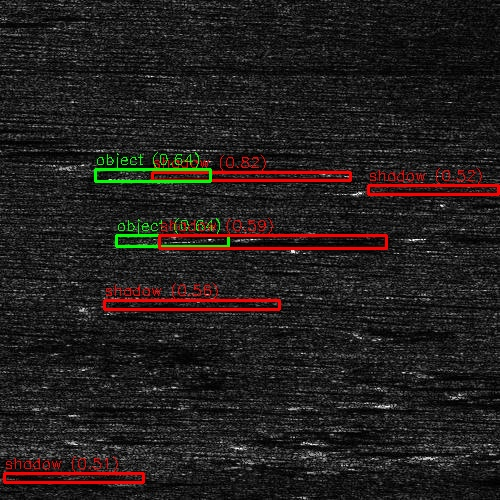rock: (42, 154, 125, 173), (409, 449, 472, 462), (340, 399, 433, 406), (345, 187, 418, 194), (14, 402, 87, 407), (301, 449, 354, 454), (36, 497, 99, 500), (111, 480, 164, 483), (138, 240, 169, 243), (0, 475, 17, 480), (0, 145, 2, 152)
shadow: (84, 154, 251, 173), (133, 173, 345, 178), (0, 475, 179, 480), (382, 187, 500, 194), (387, 399, 500, 406), (441, 449, 500, 462), (154, 240, 364, 243), (0, 145, 76, 152), (328, 449, 418, 454), (51, 402, 131, 407), (0, 17, 54, 24), (68, 497, 150, 500), (0, 135, 42, 140), (0, 241, 27, 246), (138, 480, 180, 483)
